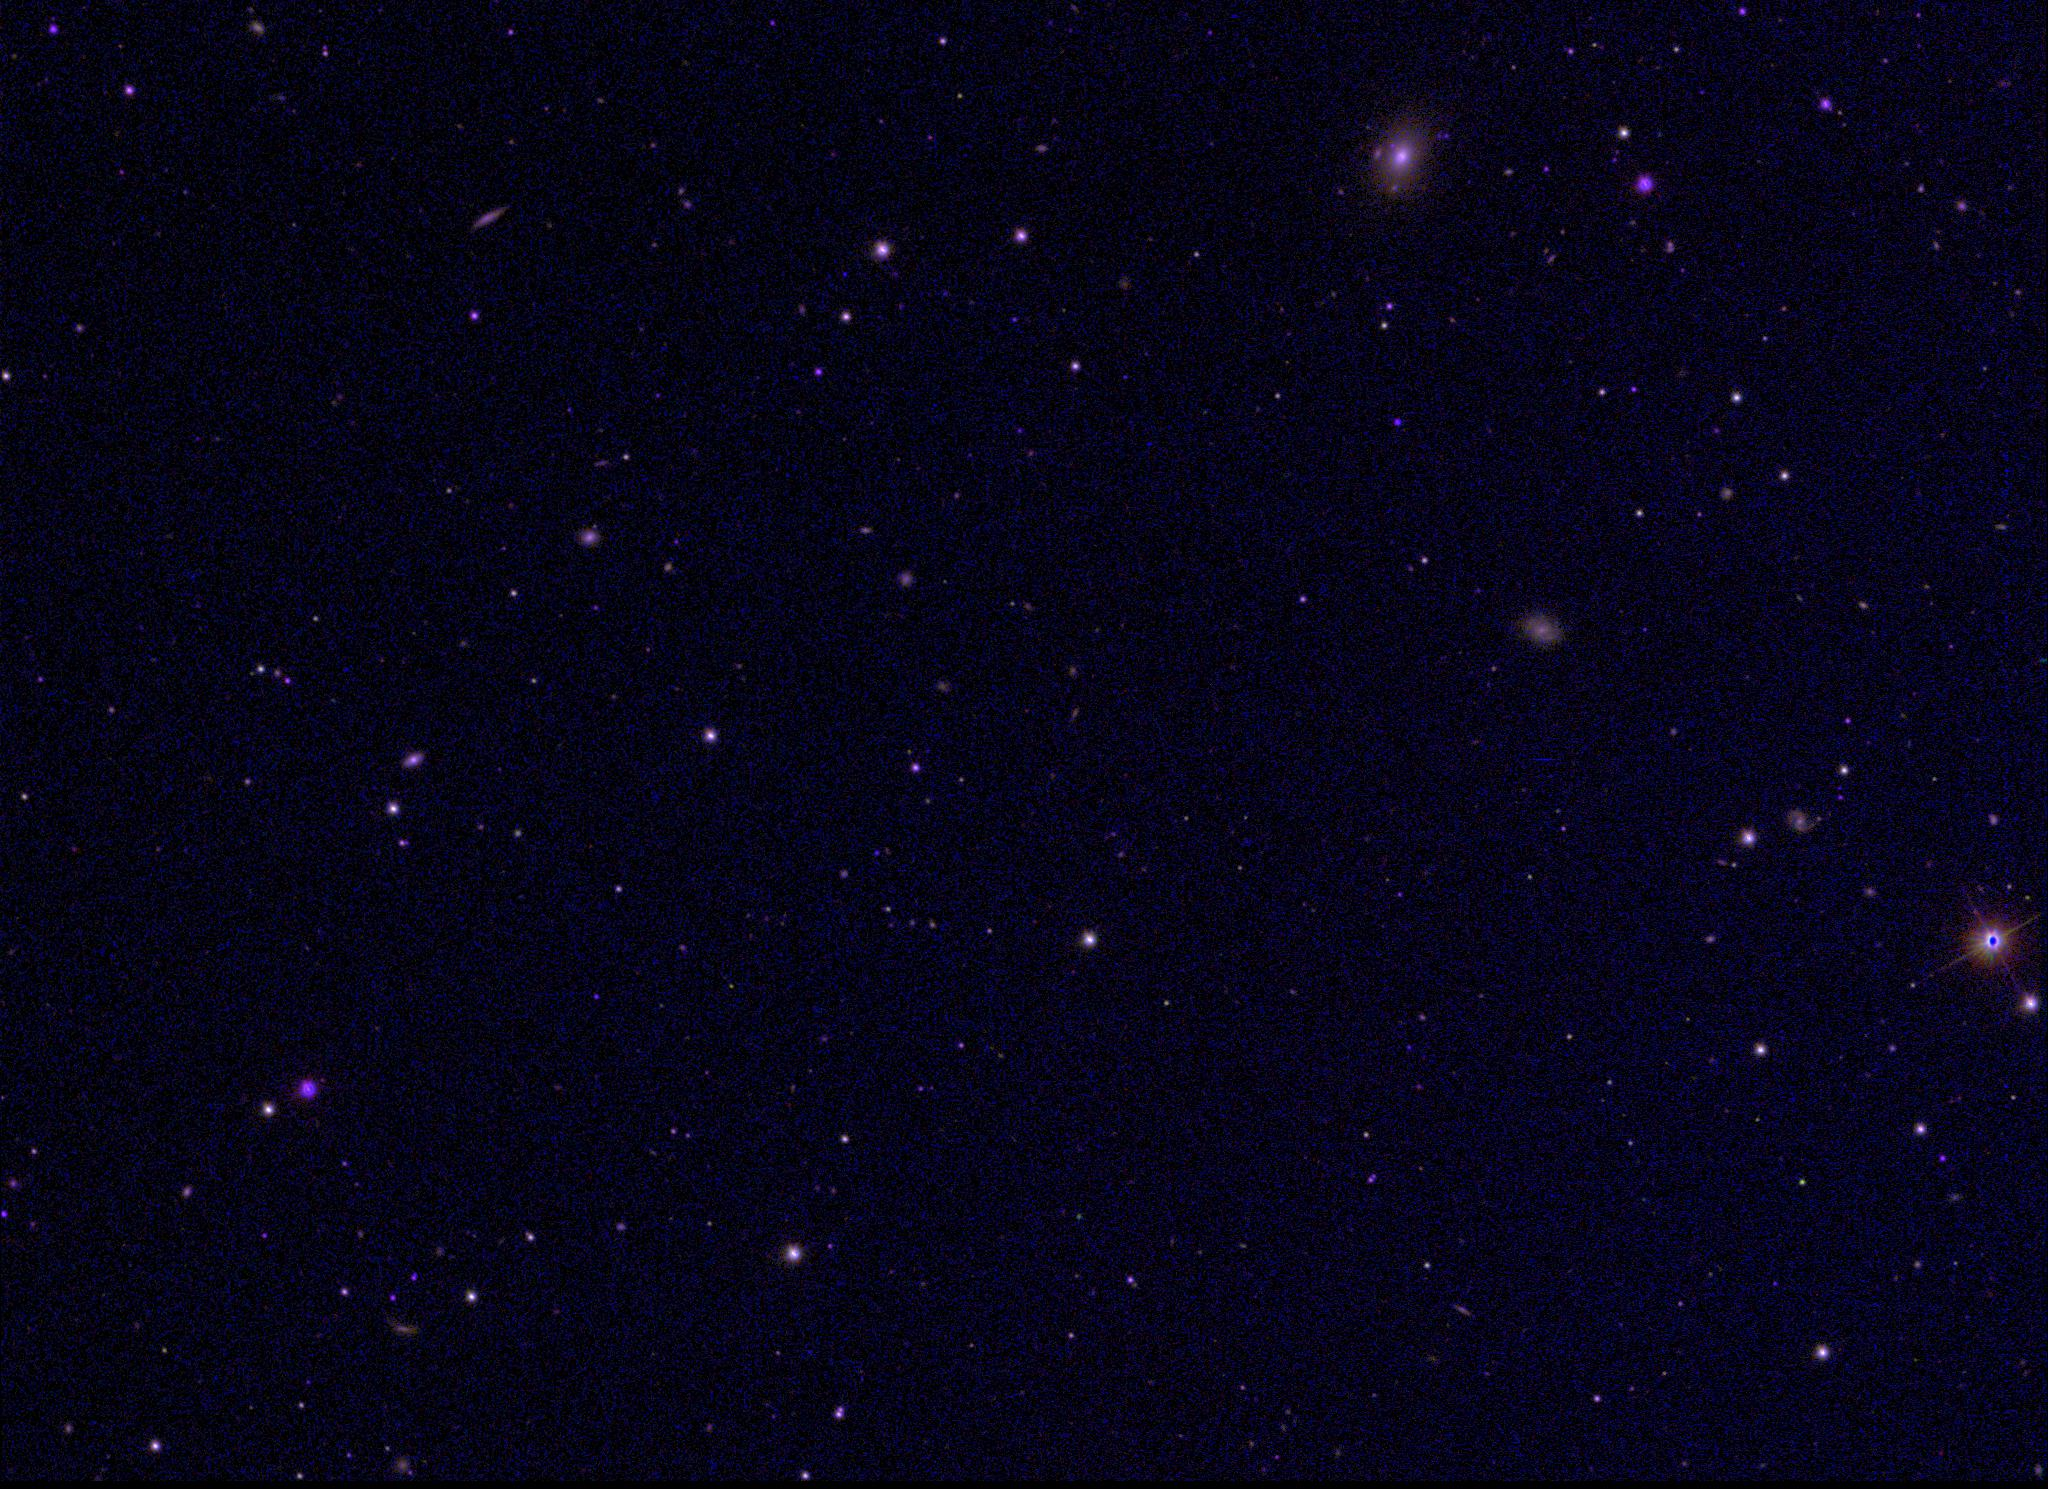L: (838, 267, 852, 282)
